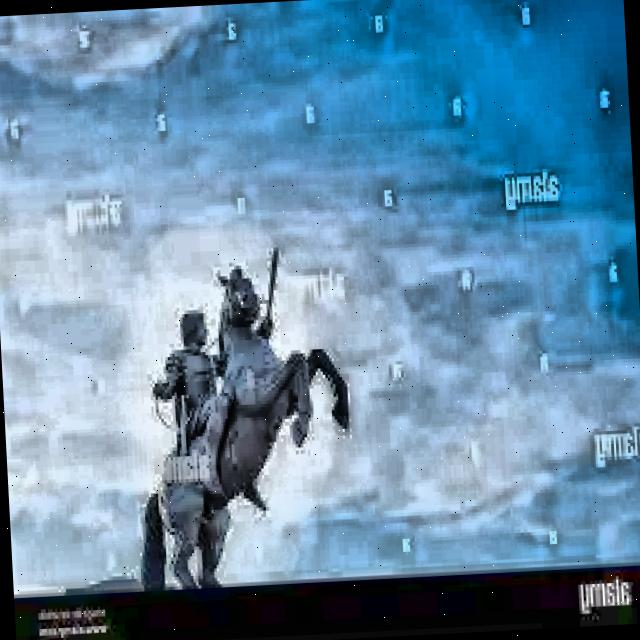alexander the great monument: (114, 236, 365, 597)
